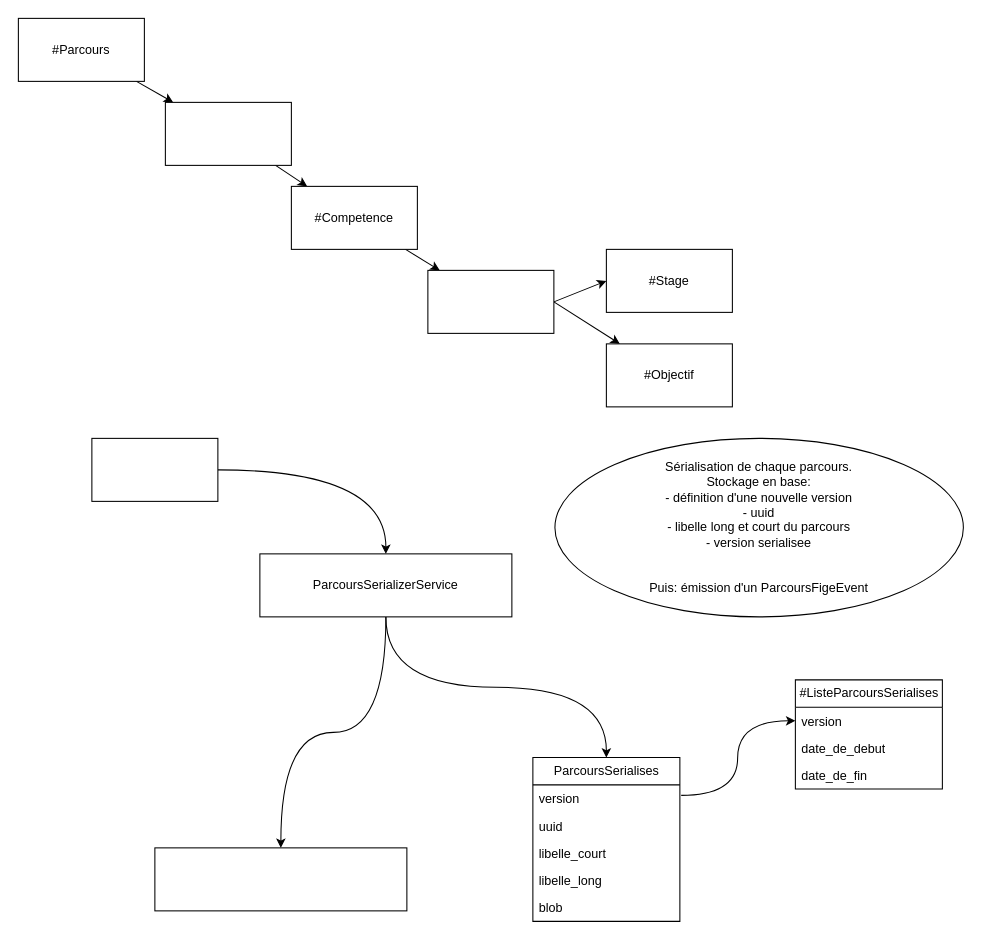
This 982x943 diagram has some shape labels left out. Here are the shapes that lost their labels. From the top down, the centre of each, then its label:
At pixel 227 133: "#Fonction".
At pixel 490 301: "#SavoirFaire".
At pixel 154 469: "Action utilisateur: Figer le parcours".
At pixel 280 879: "#ParcoursFigeEvent".
